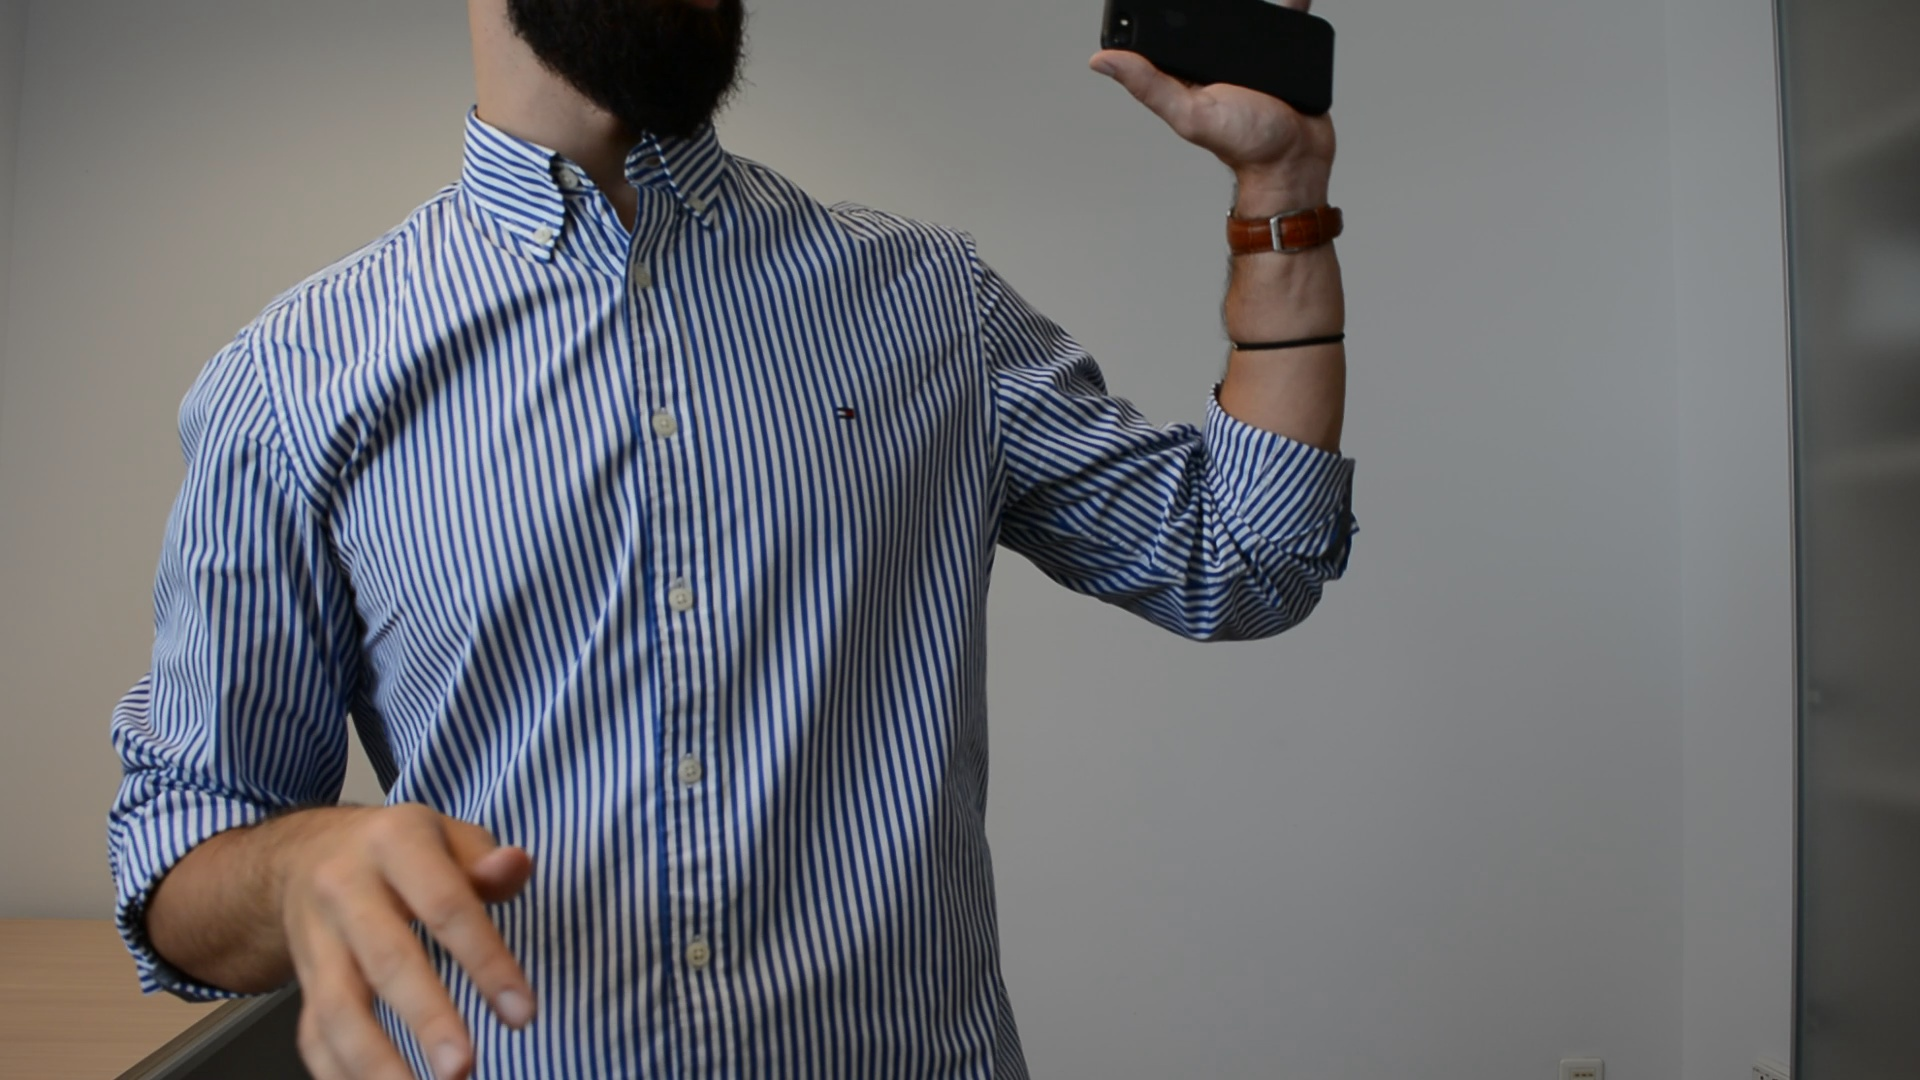smartphone: (1097, 1, 1342, 125)
